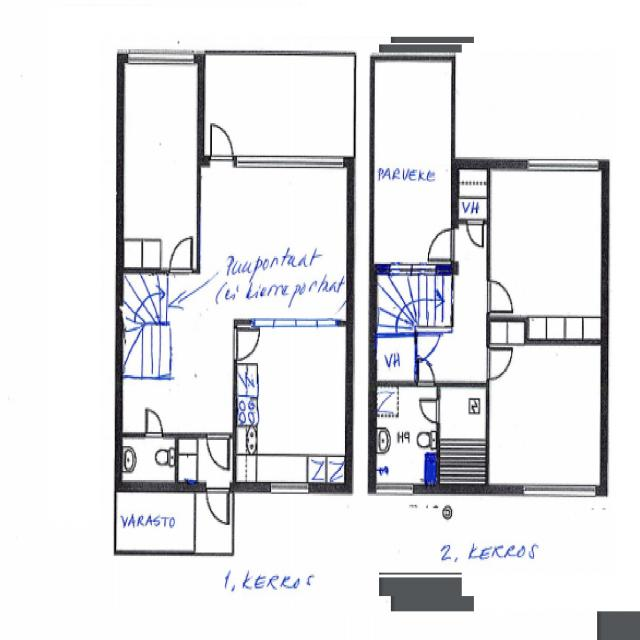door: (207, 484, 230, 526), (211, 126, 233, 167), (232, 328, 259, 361), (430, 230, 458, 260), (170, 238, 192, 274), (207, 434, 229, 469), (487, 282, 512, 312), (488, 349, 512, 379), (193, 524, 214, 550), (418, 357, 436, 387), (416, 335, 436, 360), (468, 219, 484, 247), (421, 400, 441, 422), (146, 412, 162, 438)
